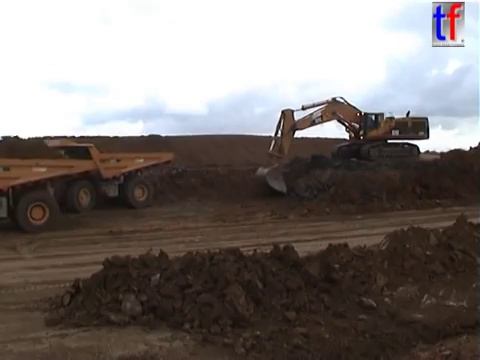excavator: (252, 94, 431, 195)
truck: (40, 137, 175, 213), (1, 155, 97, 234)
